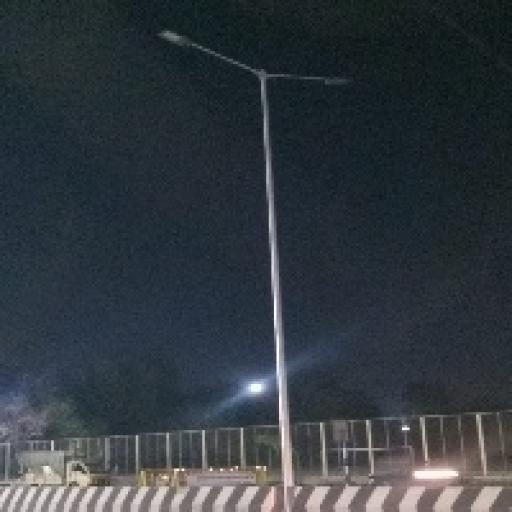Not Working: (154, 26, 194, 53), (313, 70, 353, 90)
Working: (245, 378, 267, 398)
